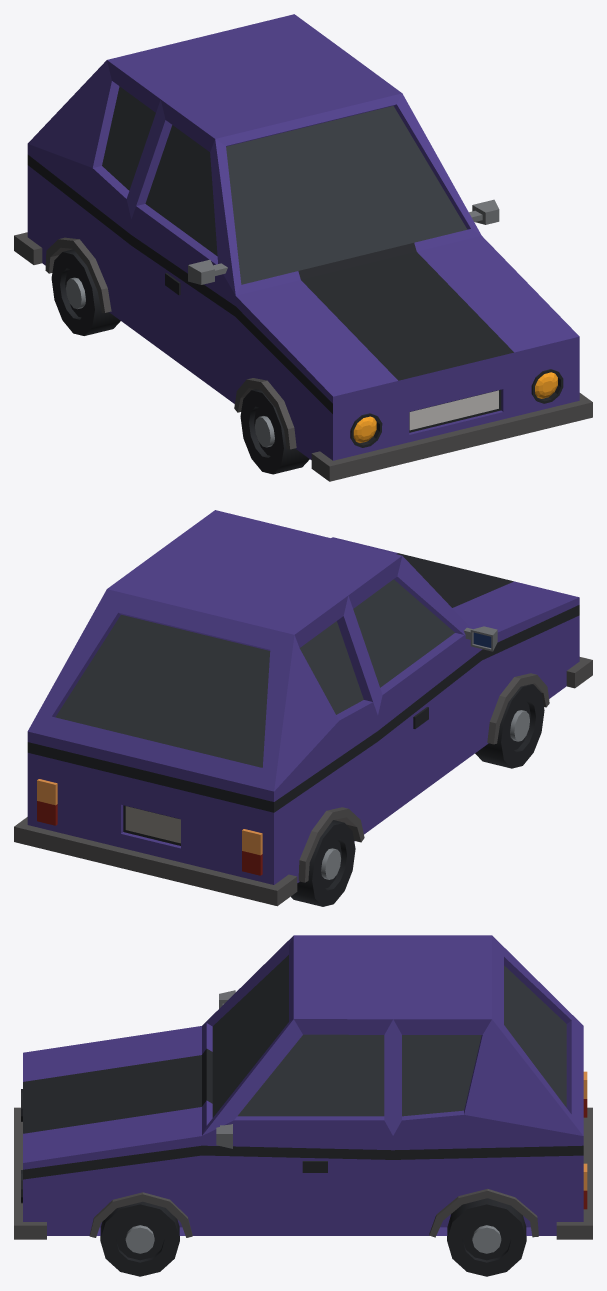
File: Car_7.fbx
3 renders of one model, top to bottom at view 1: azimuth 30°, elevation 25°; view 2: azimuth 150°, elevation 25°; view 3: azimuth 270°, elevation 25°, orthographic. The views are drawn at different scales.
Parts seen in each view (by area): view 1: Car_7; view 2: Car_7; view 3: Car_7.
Part boxes in pixels (x1=…): Car_7: x1=14, y1=14, x2=592, y2=481; Car_7: x1=14, y1=510, x2=592, y2=906; Car_7: x1=14, y1=935, x2=592, y2=1276.
Bounding box in the file's own units: 188 × 155 × 338.
